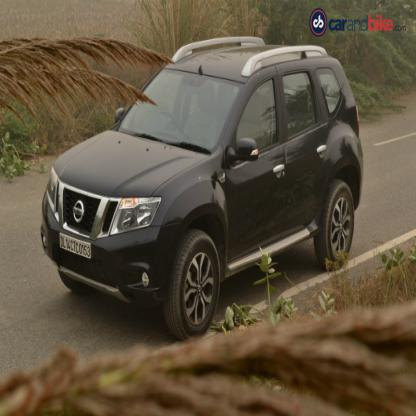license_plate: (58, 229, 91, 260)
